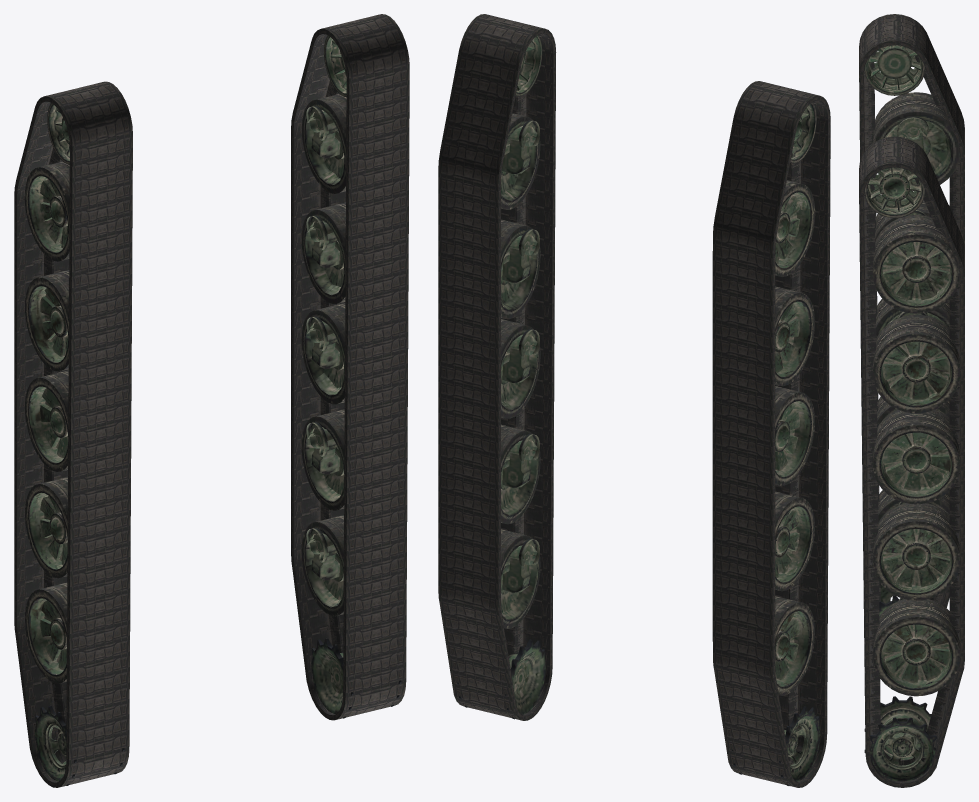
File: Chassis.glb
The picture shows the model from 3 angles, left to right: view 1: azimuth 30°, elevation 25°; view 2: azimuth 150°, elevation 25°; view 3: azimuth 270°, elevation 25°; orthographic projection. The views are drawn at different scales.
Visible parts, largest first — view 1: set_0_group_0, set_1_group_0, set_3_group_0, set_2_group_0; view 2: set_0_group_0, set_1_group_0, set_3_group_0, set_2_group_0; view 3: set_3_group_0, set_1_group_0, set_2_group_0, set_0_group_0.
Part boxes in pixels (x1,y1,x2,y2): set_0_group_0: (14, 81, 132, 787); set_1_group_0: (291, 14, 409, 720); set_3_group_0: (301, 35, 401, 718); set_2_group_0: (24, 103, 124, 785); set_0_group_0: (712, 81, 830, 787); set_1_group_0: (438, 14, 556, 720); set_3_group_0: (457, 35, 545, 719); set_2_group_0: (731, 102, 820, 785); set_3_group_0: (864, 167, 959, 781); set_1_group_0: (859, 136, 964, 787); set_2_group_0: (864, 45, 959, 615); set_0_group_0: (859, 14, 964, 607).
Bounding box in the file's own units: 3.22 × 6.29 × 0.9659.
Materials: 4 (4 with a texture image).
